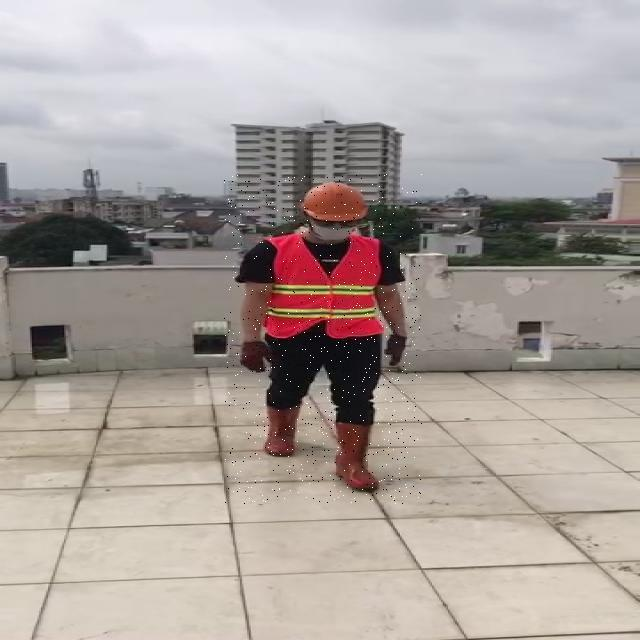boots: (332, 420, 384, 494), (264, 403, 302, 458)
helmet: (290, 179, 374, 224)
vest: (268, 238, 384, 339)
